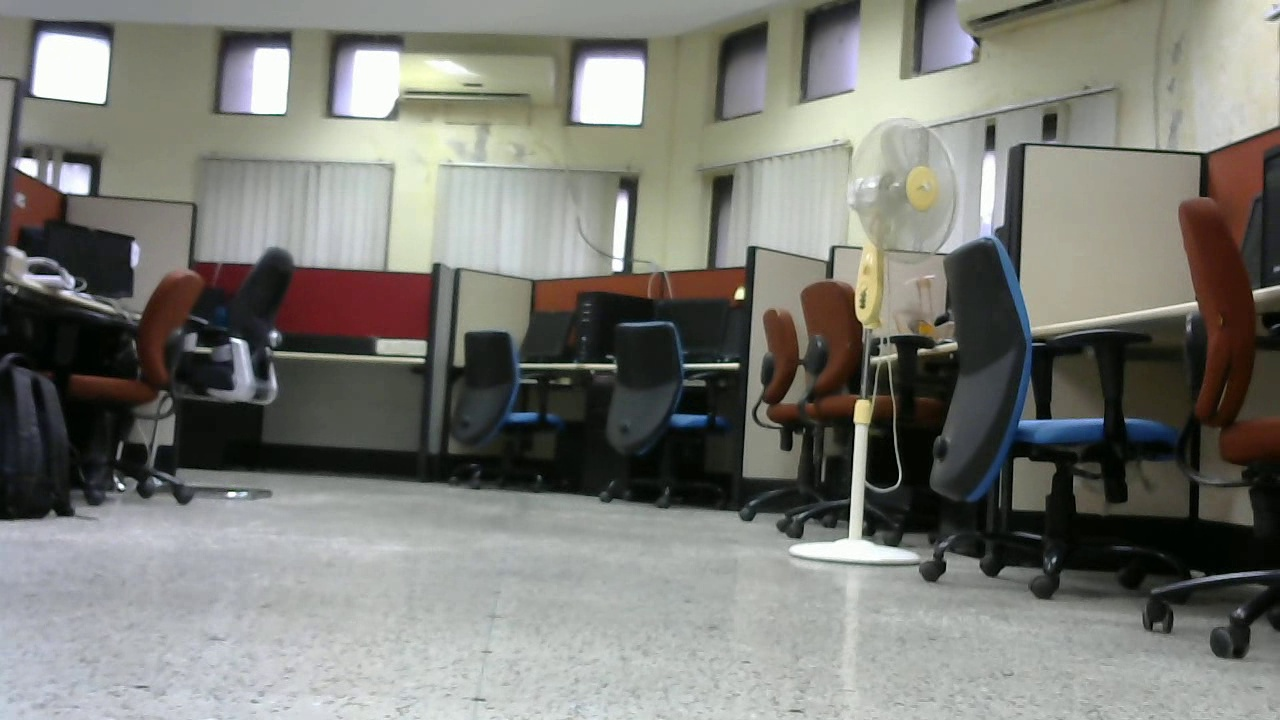chair: (920, 235, 1186, 603), (728, 282, 941, 537), (132, 226, 305, 499), (52, 262, 206, 500), (601, 316, 745, 512), (436, 327, 574, 491)
